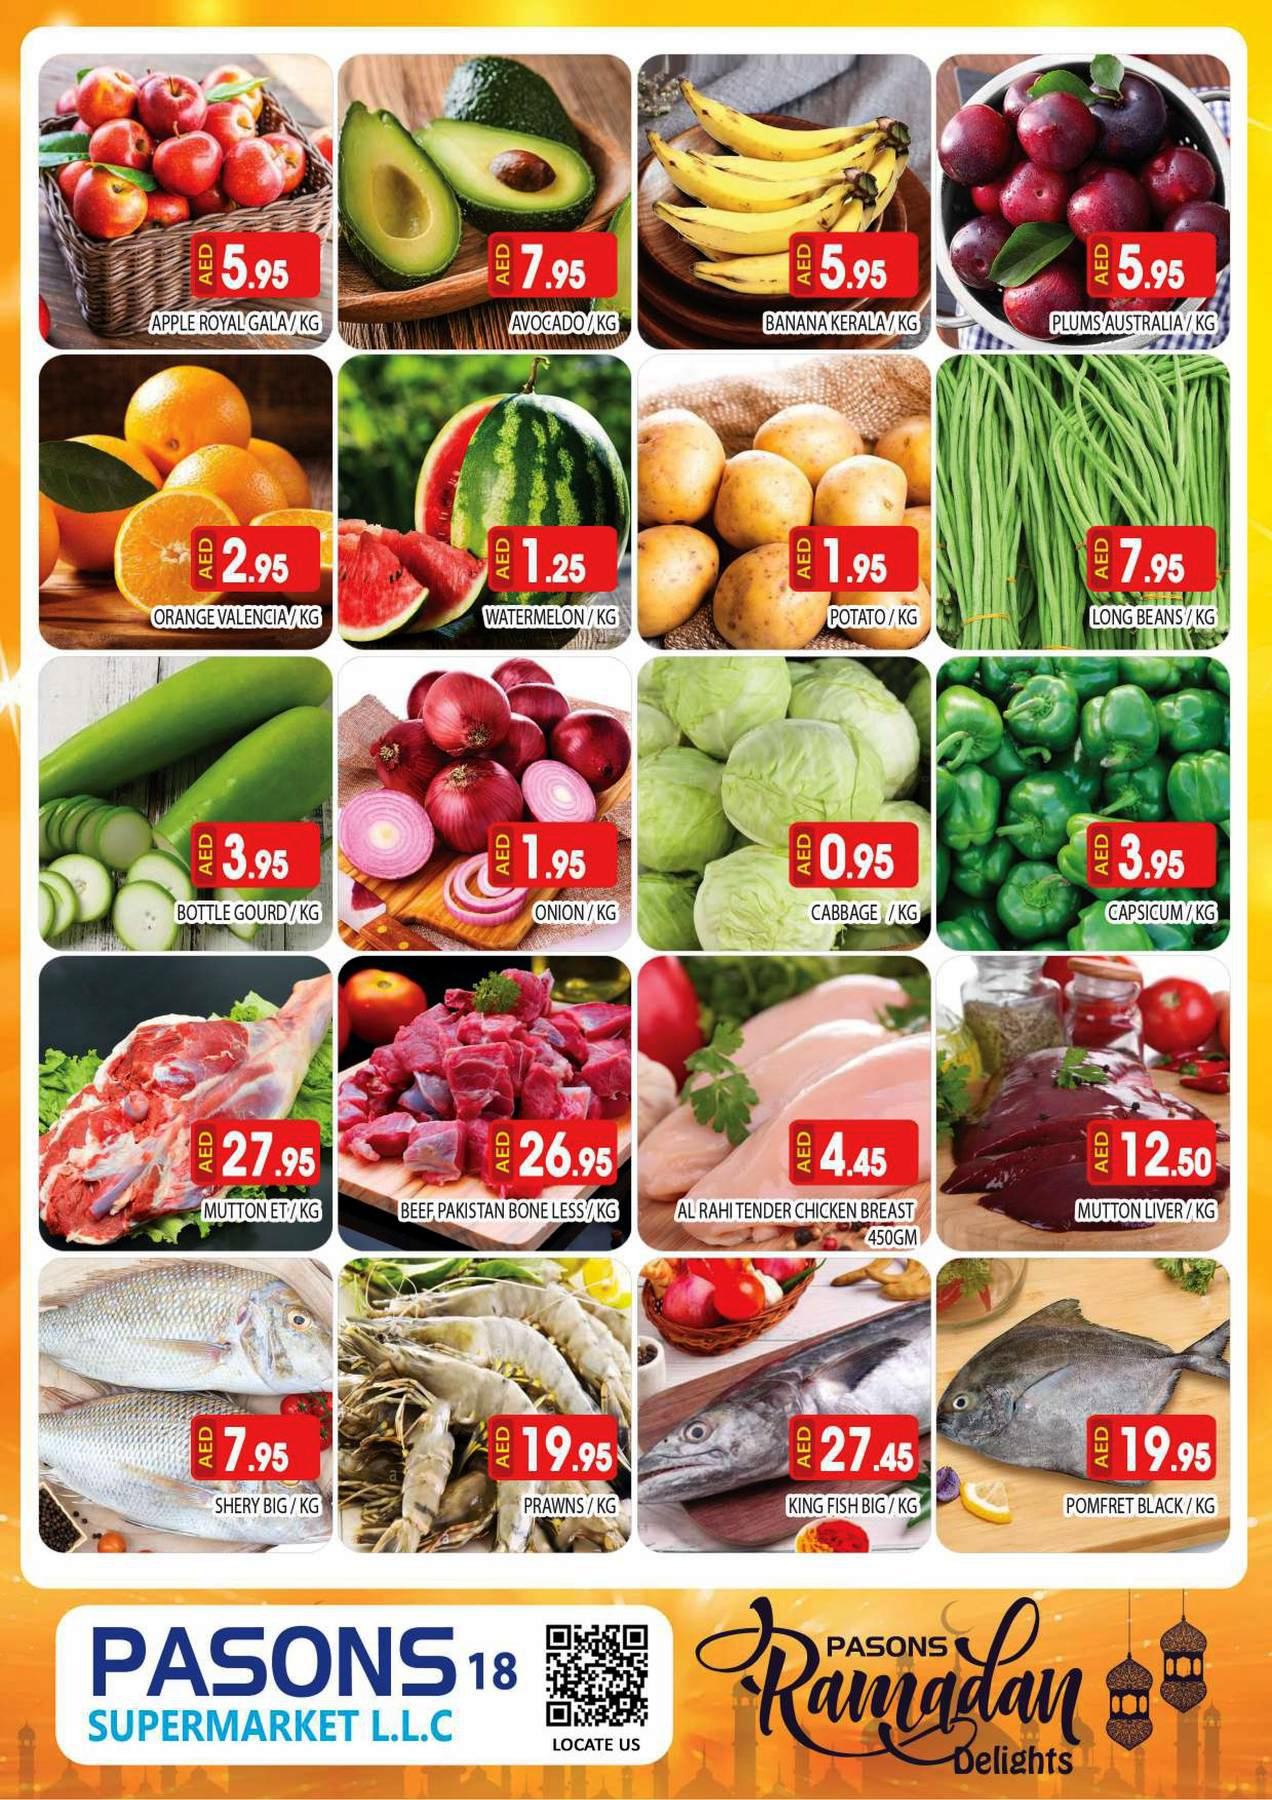text: (672, 1194, 925, 1251), (392, 1194, 624, 1230), (1045, 306, 1227, 344), (1059, 1488, 1224, 1526), (145, 306, 326, 340), (147, 601, 326, 636), (1070, 1190, 1224, 1230), (1083, 597, 1225, 636), (759, 308, 926, 340), (476, 600, 625, 634), (781, 1488, 925, 1522), (169, 899, 326, 929), (504, 306, 626, 343), (1103, 899, 1224, 933), (197, 1196, 328, 1228), (804, 899, 926, 930), (211, 1490, 328, 1523), (825, 601, 925, 634), (526, 897, 624, 930), (518, 1490, 624, 1521)
